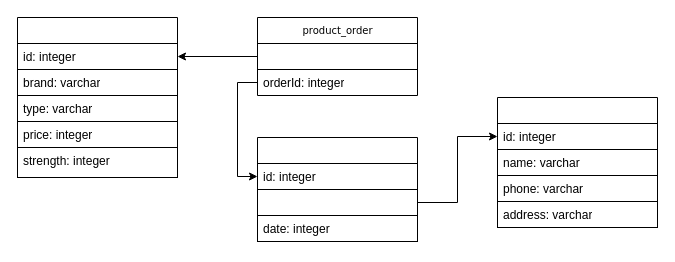
Image size: 675x262. Some labels were removed from this diagram. Here are the shapes that lost their labels. From the top down, the box of each, then its label:
(256, 42, 418, 70): productId: integer
(16, 16, 178, 178): product
(496, 96, 658, 228): customer
(256, 136, 418, 242): order
(256, 188, 418, 216): customerId: integer
